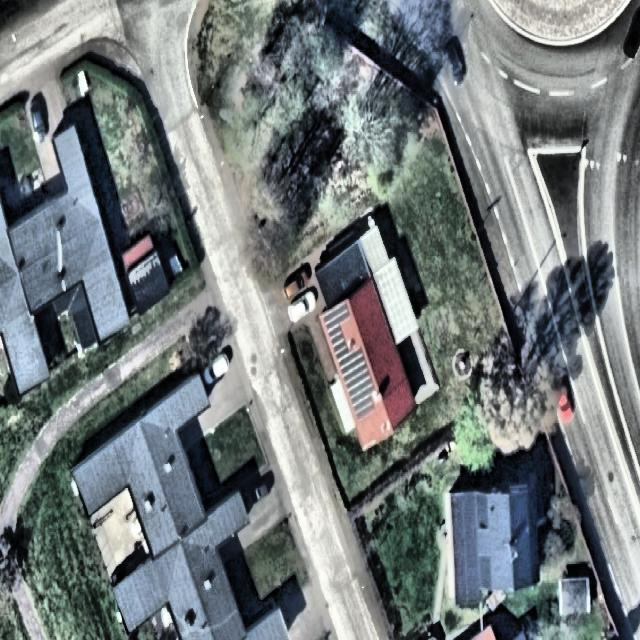roof_pv: (336, 348, 376, 393), (319, 298, 352, 329), (326, 320, 349, 361), (347, 392, 376, 420)
